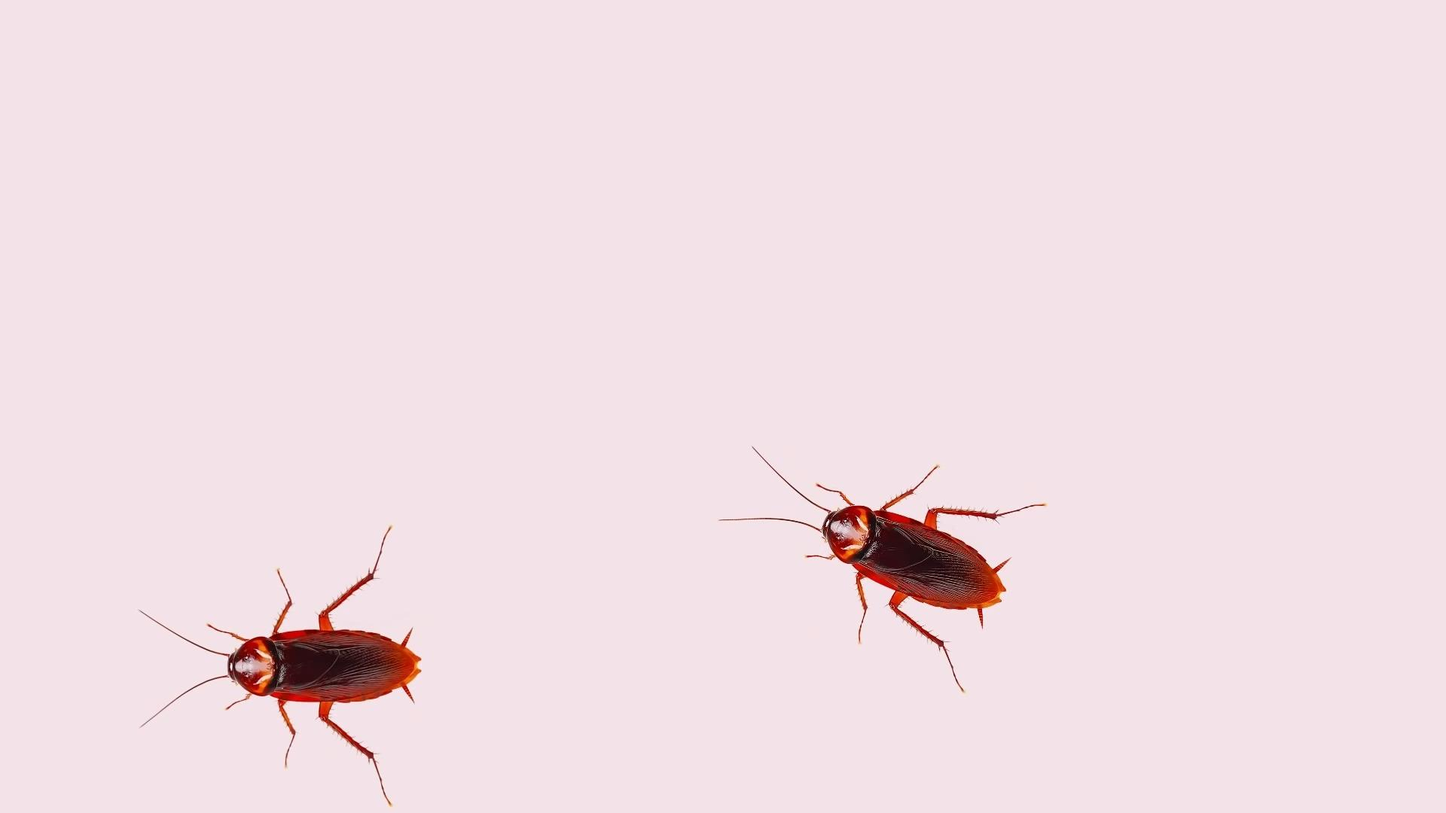cockroach: (750, 443, 1009, 642), (136, 599, 427, 764)
